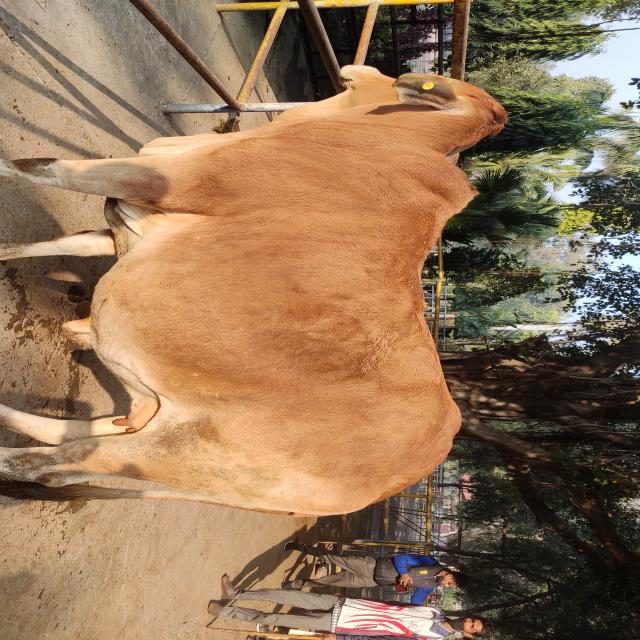cow: (1, 62, 508, 518)
hump: (441, 152, 483, 223)
